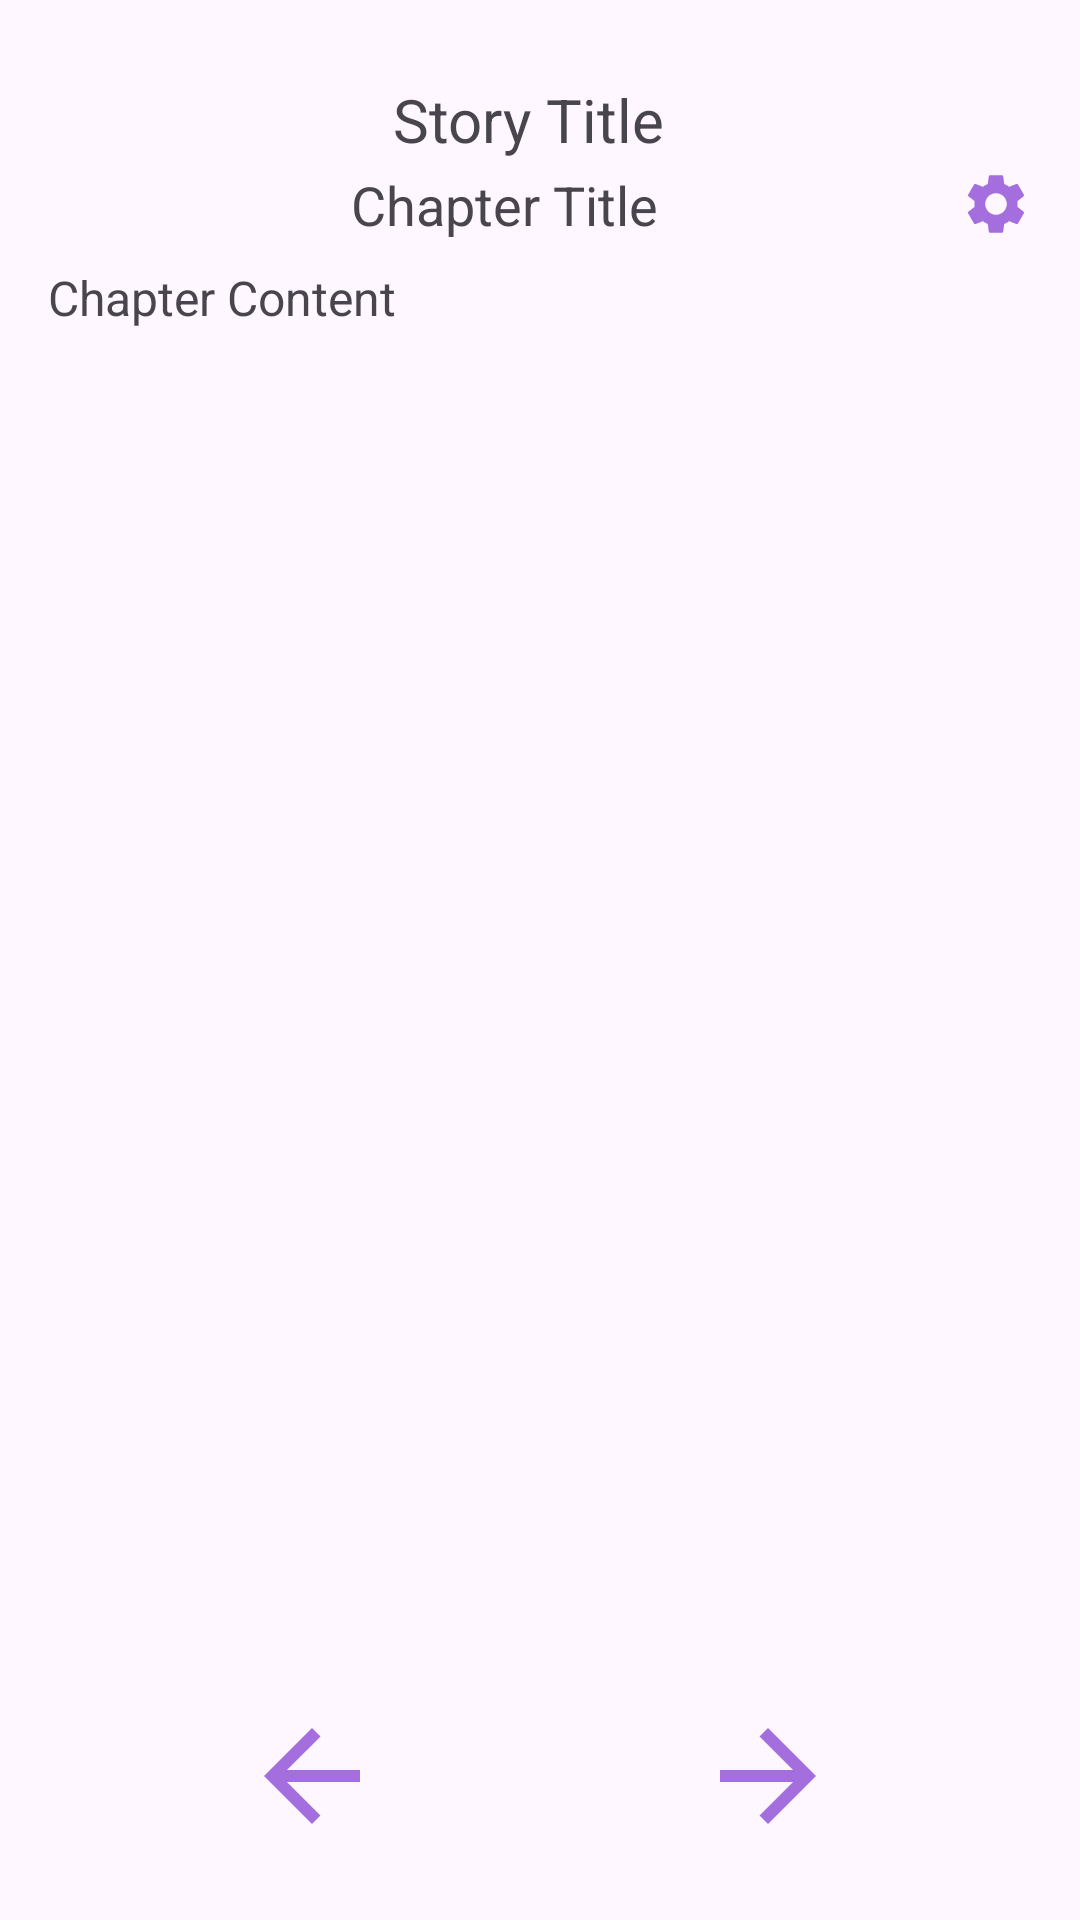

Where to tap for icons on this 1080px×1920px app screen, as (x=x, y=y):
arrow left: (x=312, y=1776)
arrow right: (x=768, y=1776)
